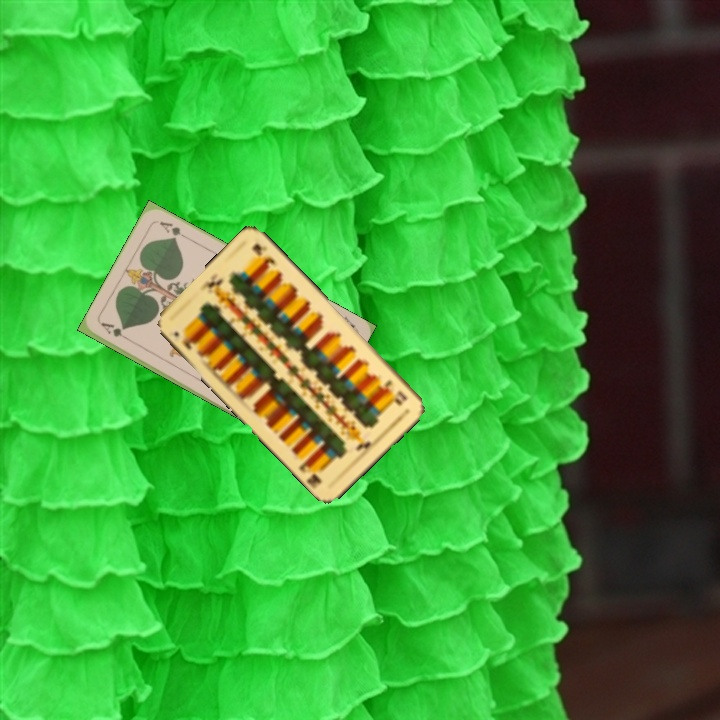E10: (380, 376, 410, 406), (170, 328, 197, 353)
GA: (97, 318, 134, 345)
